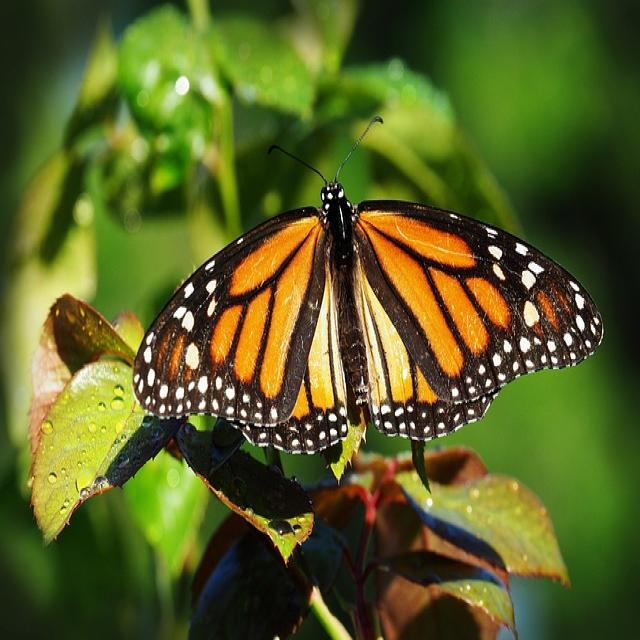butterfly: (123, 183, 605, 465)
